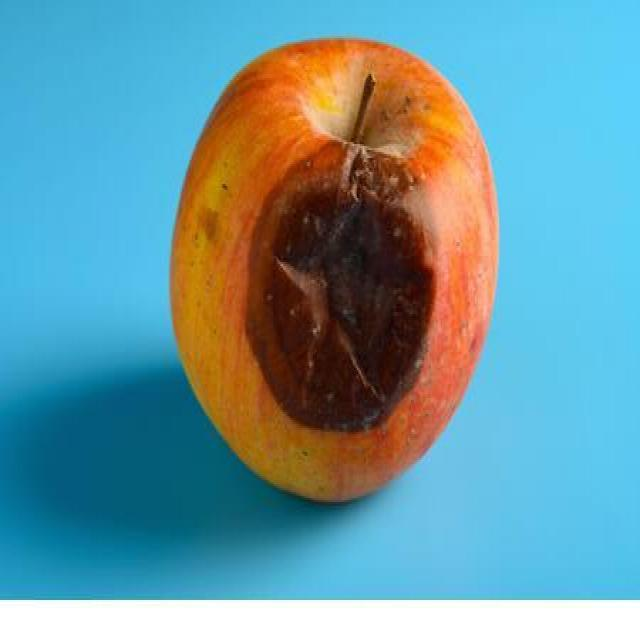Apple: (163, 33, 507, 502)
